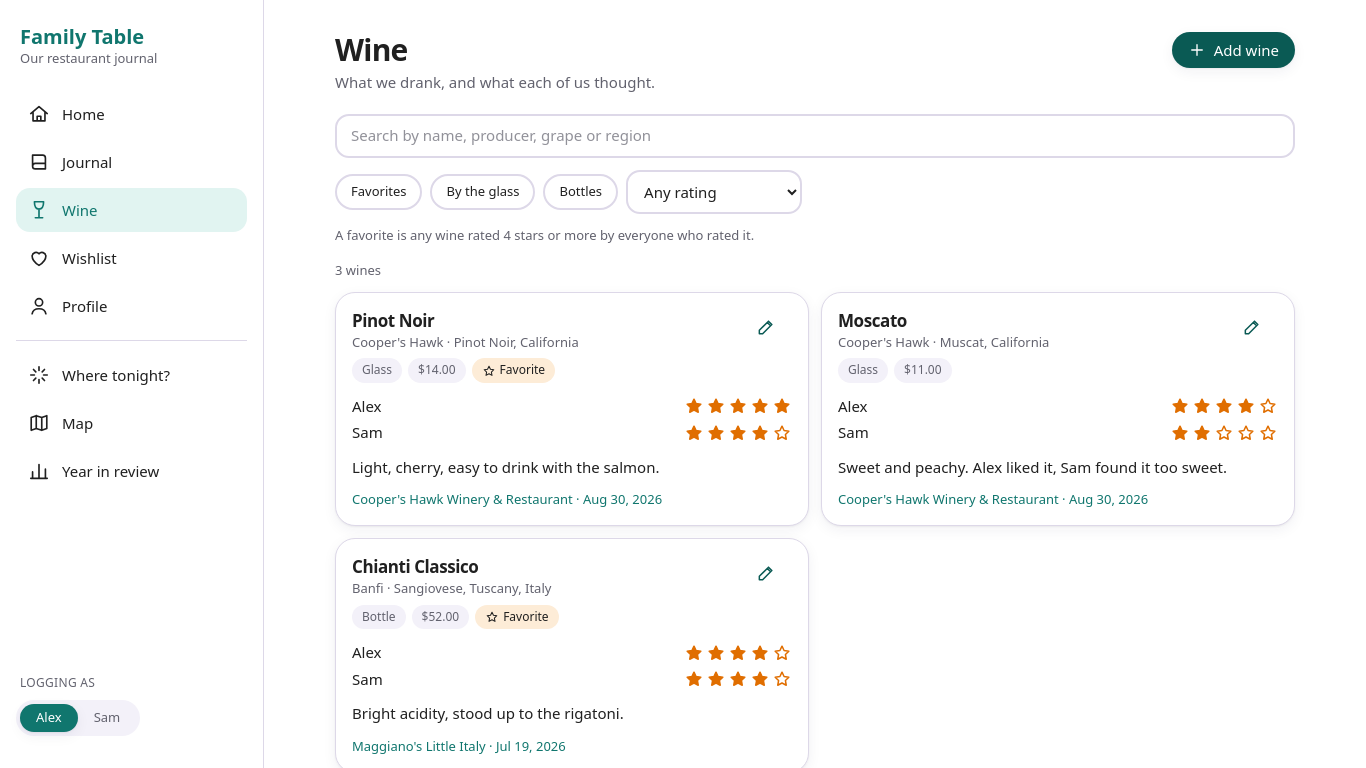
it: wine tab › shows both parents’ ratings and filters to favorites
The image size is (1366, 768).
expect the heading "Moscato" is shown: met, box [838,309,907,332]
expect the picture named "Alex's rating: 4 out of 5" below "$11.00" is shown: met, box [1170,396,1278,416]
Click the button "Favorites": (379, 192) [335,174,422,210]
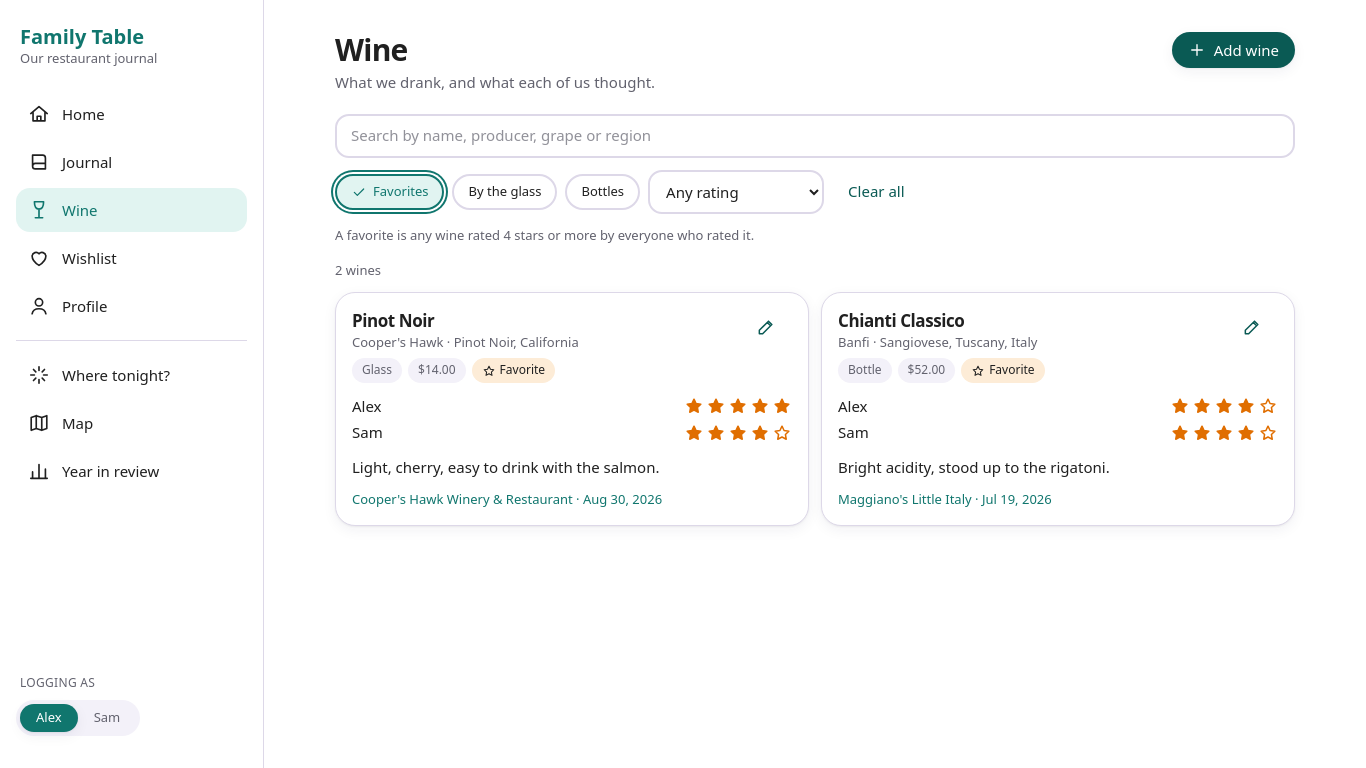
expect the heading "Pinot Noir" is shown: met, box [352,309,434,332]
expect the heading "Moscato" is gone: met
